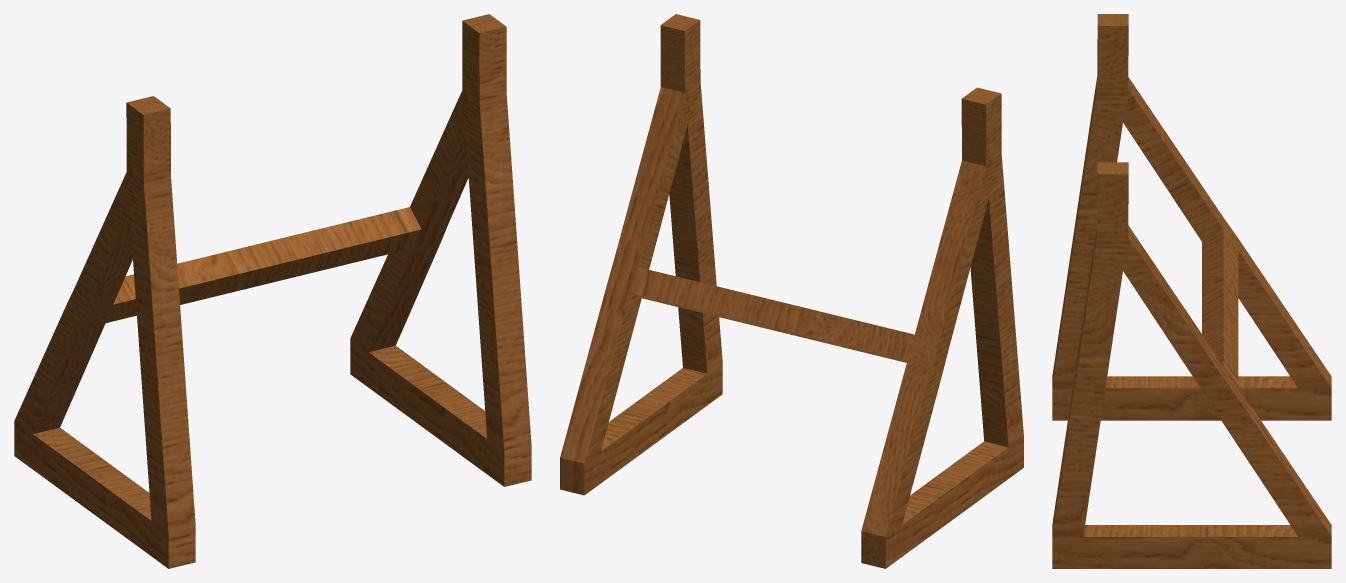
The model's file is MIrrorStand.fbx.
3 views of the same model, side by side, from view 1: azimuth 30°, elevation 25°; view 2: azimuth 150°, elevation 25°; view 3: azimuth 270°, elevation 25° (orthographic). The views are drawn at different scales.
Visible parts, largest first — view 1: pCube164; view 2: pCube164; view 3: pCube164.
Boxes of the visible parts, x1=… form: pCube164: x1=14, y1=14, x2=531, y2=568; pCube164: x1=560, y1=14, x2=1023, y2=568; pCube164: x1=1052, y1=14, x2=1331, y2=568.
Bounding box in the file's own units: 1.14 × 1.31 × 0.8405.
